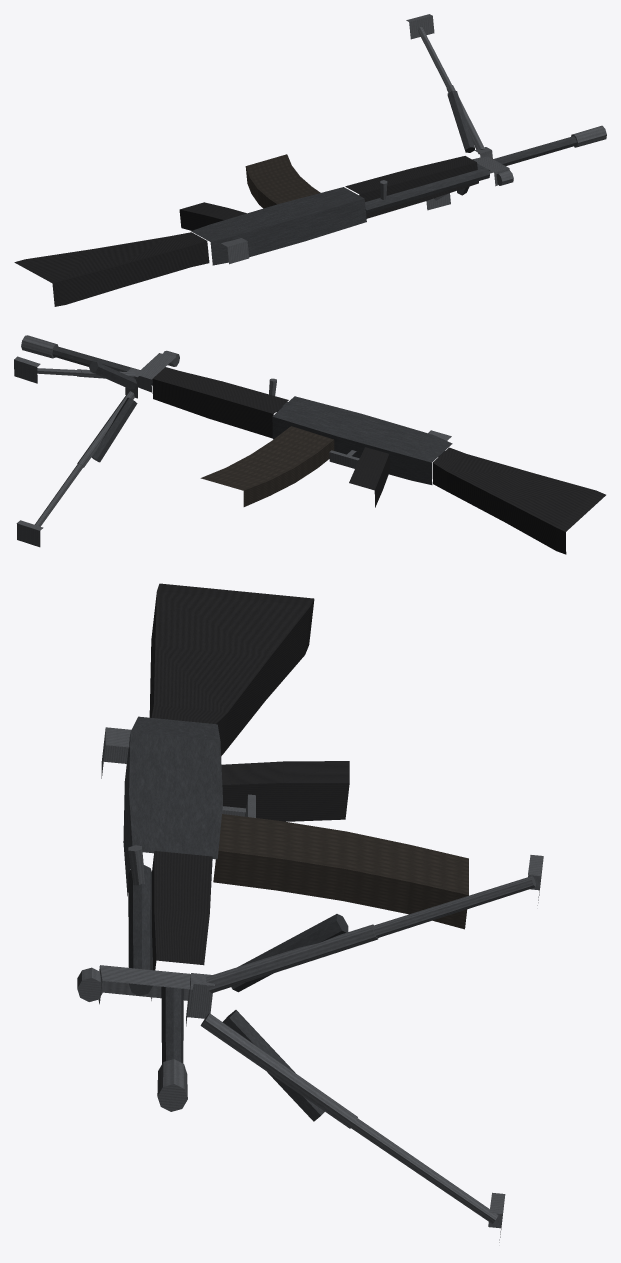
Rendered from insas_556_assault_rifle.glb.
The picture shows the model from 3 angles, top to bottom: view 1: azimuth 30°, elevation 25°; view 2: azimuth 150°, elevation 25°; view 3: azimuth 270°, elevation 25°; orthographic projection. The views are drawn at different scales.
Parts seen in each view (by area): view 1: INSAS_556_Assault_Rifle; view 2: INSAS_556_Assault_Rifle; view 3: INSAS_556_Assault_Rifle.
Part boxes in pixels (left/top/right/bottom): INSAS_556_Assault_Rifle: left=14, top=14, right=606, bottom=306; INSAS_556_Assault_Rifle: left=14, top=335, right=605, bottom=554; INSAS_556_Assault_Rifle: left=77, top=583, right=543, bottom=1242.
Bounding box in the file's own units: 0.9605 × 0.305 × 0.35.
1 material, 1 textured.
